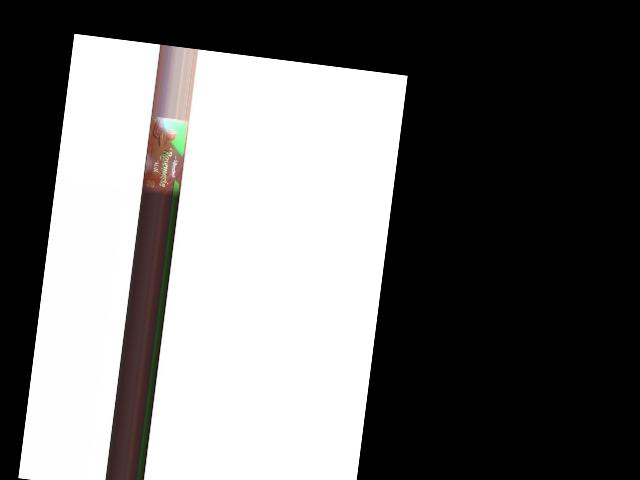chocolate: (141, 117, 187, 198)
